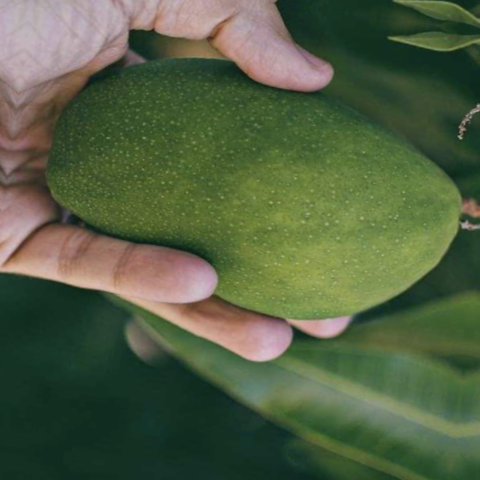mango: (5, 0, 480, 422)
